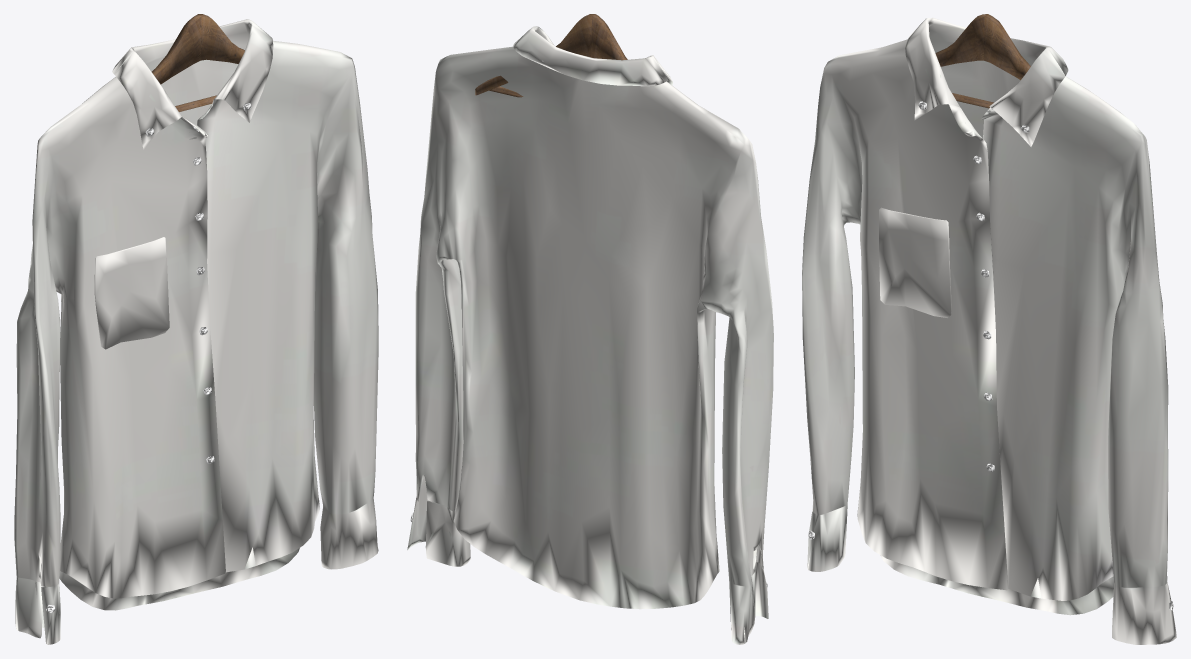
The model's file is hvtop_shirt_014.glb.
3 views of the same model, side by side, from view 1: azimuth 30°, elevation 25°; view 2: azimuth 150°, elevation 25°; view 3: azimuth 330°, elevation 25° (orthographic). The views are drawn at different scales.
Parts seen in each view (by area): view 1: BP_shirt_014; view 2: BP_shirt_014; view 3: BP_shirt_014.
Boxes of the visible parts, x1,y1,x2,y2 form: BP_shirt_014: [14, 14, 378, 644]; BP_shirt_014: [407, 14, 773, 644]; BP_shirt_014: [802, 14, 1176, 644].
Bounding box in the file's own units: 0.5049 × 0.8028 × 0.1031.
Materials: 3 (2 with a texture image).
